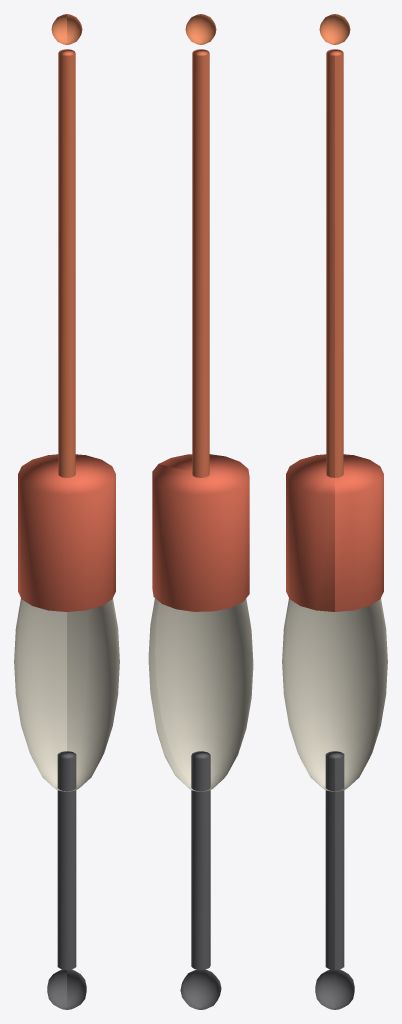
Rendered from float.glb.
3 views of the same model, side by side, from view 1: azimuth 90°, elevation 25°; view 2: azimuth 150°, elevation 25°; view 3: azimuth 270°, elevation 25° (orthographic).
Parts seen in each view (by area): view 1: Body, SightBand, Antenna, Keel, KeelWeight, AntennaTip; view 2: Body, SightBand, Antenna, Keel, KeelWeight, AntennaTip; view 3: Body, SightBand, Antenna, Keel, KeelWeight, AntennaTip.
Boxes of the visible parts, <box> form: Body: <box>14,598,119,791</box>; SightBand: <box>18,454,115,611</box>; Antenna: <box>58,49,75,477</box>; Keel: <box>57,751,76,969</box>; KeelWeight: <box>47,969,86,1009</box>; AntennaTip: <box>51,14,82,44</box>; Body: <box>148,598,253,791</box>; SightBand: <box>152,454,249,611</box>; Antenna: <box>192,49,209,477</box>; Keel: <box>191,751,210,969</box>; KeelWeight: <box>180,969,221,1009</box>; AntennaTip: <box>185,14,216,44</box>; Body: <box>282,598,387,791</box>; SightBand: <box>286,454,383,611</box>; Antenna: <box>326,49,343,477</box>; Keel: <box>325,751,344,969</box>; KeelWeight: <box>315,969,354,1009</box>; AntennaTip: <box>319,14,350,44</box>.
Size of the model in its own units: 0.0164 by 0.1696 by 0.0164.
